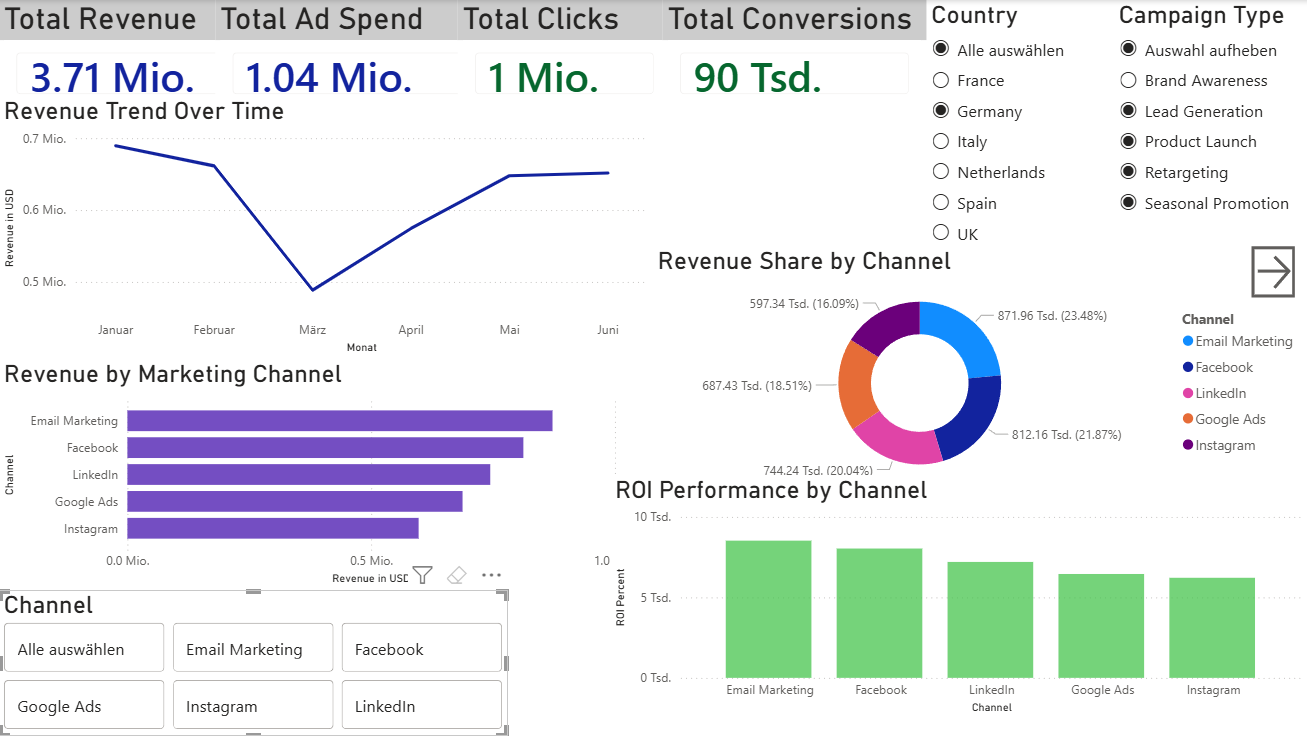

The page's visual inventory and layout, read from the dashboard file:
{"tool":"powerbi","page":{"name":"Executive Summary","canvas":[1280,720],"ordinal":0},"visuals":[{"type":"cardVisual","title":"Total Revenue","fields":{"Data":["Sum(Marketing Campaign Data.Revenue_USD)"]},"box":[0,0,249.5,110.1],"z":0},{"type":"cardVisual","title":"Total Ad Spend","fields":{"Data":["Sum(Marketing Campaign Data.Ad_Spend_USD)"]},"box":[211.6,0,264.1,110.1],"z":1000},{"type":"cardVisual","title":"Total Clicks","fields":{"Data":["Sum(Marketing Campaign Data.Clicks)"]},"box":[448.8,0,209.1,110.1],"z":2000},{"type":"cardVisual","title":"Total Conversions","fields":{"Data":["Sum(Marketing Campaign Data.Conversions)"]},"box":[649.3,0,258,110.1],"z":3000},{"type":"lineChart","title":"Revenue Trend Over Time","fields":{"Category":["Marketing Campaign Data.Date.Variation.Datumshierarchie.Monat"],"Y":["Sum(Marketing Campaign Data.Revenue_USD)"]},"box":[0,94.2,639.5,256.8],"z":4000},{"type":"clusteredBarChart","title":"Revenue by Marketing Channel","fields":{"Category":["Marketing Campaign Data.Channel"],"Y":["Sum(Marketing Campaign Data.Revenue_USD)"]},"box":[0,351,629.8,226.2],"z":5000},{"type":"advancedSlicerVisual","fields":{"Values":["Marketing Campaign Data.Channel"]},"box":[0,577.2,497.7,143.1],"z":6000},{"type":"listSlicer","fields":{"Values":["Marketing Campaign Data.Country"]},"box":[907.3,0,183.4,255.6],"z":7000},{"type":"listSlicer","title":"Campaign Type","fields":{"Values":["Marketing Campaign Data.Campaign_Type"]},"box":[1090.8,0,189.5,255.6],"z":8000},{"type":"donutChart","title":"Revenue Share by Channel","fields":{"Category":["Marketing Campaign Data.Channel"],"Y":["Sum(Marketing Campaign Data.Revenue_USD)"]},"box":[639.5,240.9,640.8,240.9],"z":9000},{"type":"columnChart","title":"ROI Performance by Channel","fields":{"Category":["Marketing Campaign Data.Channel"],"Y":["Sum(Marketing Campaign Data.ROI_Percent)"]},"box":[598,464.7,682.3,238.5],"z":10000},{"type":"actionButton","box":[1225.3,240.9,42.8,50.1],"z":11000}]}

Visuals, with their boxes in screenshot pixels (x1, y1, x2, y2), scaled from the page's 1280x720 canvas onto the 1307x736 screenshot:
"Total Revenue" cardVisual: <bbox>0, 0, 255, 113</bbox>
"Total Ad Spend" cardVisual: <bbox>216, 0, 486, 113</bbox>
"Total Clicks" cardVisual: <bbox>458, 0, 672, 113</bbox>
"Total Conversions" cardVisual: <bbox>663, 0, 926, 113</bbox>
"Revenue Trend Over Time" lineChart: <bbox>0, 96, 653, 359</bbox>
"Revenue by Marketing Channel" clusteredBarChart: <bbox>0, 359, 643, 590</bbox>
advancedSlicerVisual - Marketing Campaign Data.Channel: <bbox>0, 590, 508, 735</bbox>
listSlicer - Marketing Campaign Data.Country: <bbox>926, 0, 1114, 261</bbox>
"Campaign Type" listSlicer: <bbox>1114, 0, 1306, 261</bbox>
"Revenue Share by Channel" donutChart: <bbox>653, 246, 1306, 493</bbox>
"ROI Performance by Channel" columnChart: <bbox>611, 475, 1306, 719</bbox>
actionButton: <bbox>1251, 246, 1295, 297</bbox>
